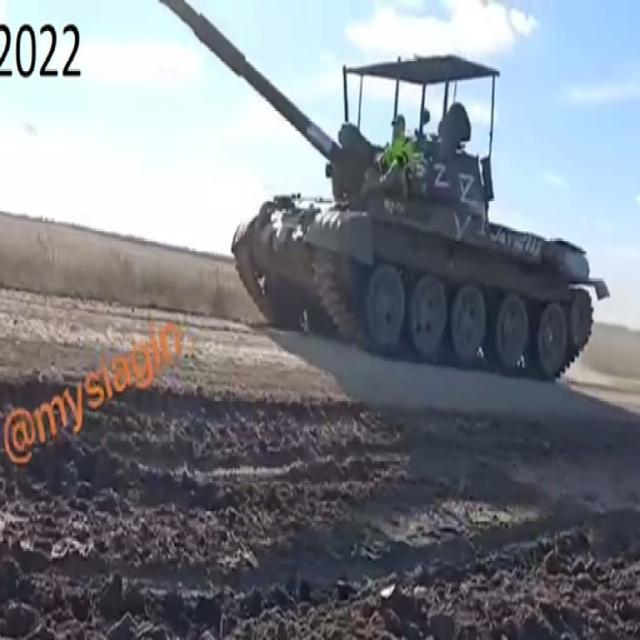TANK: (162, 2, 608, 387)
